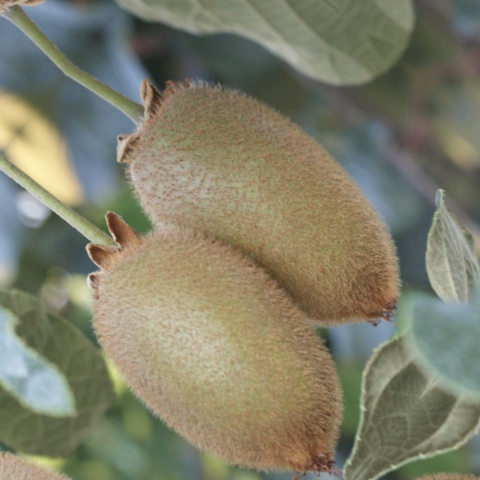kiwi: (77, 25, 456, 386), (22, 165, 405, 480)
